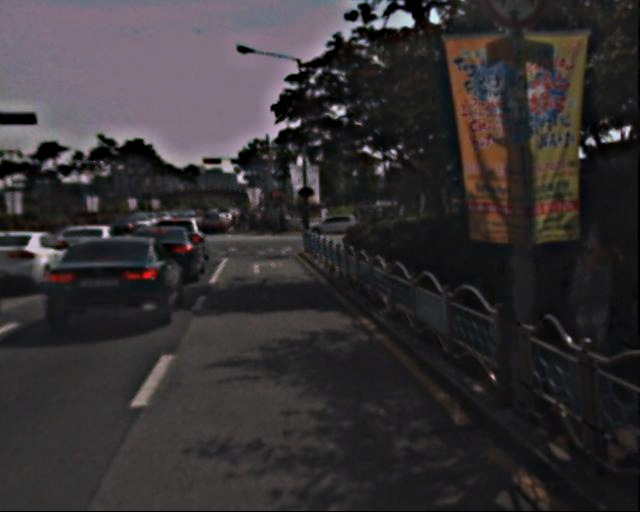person: (555, 221, 638, 399)
